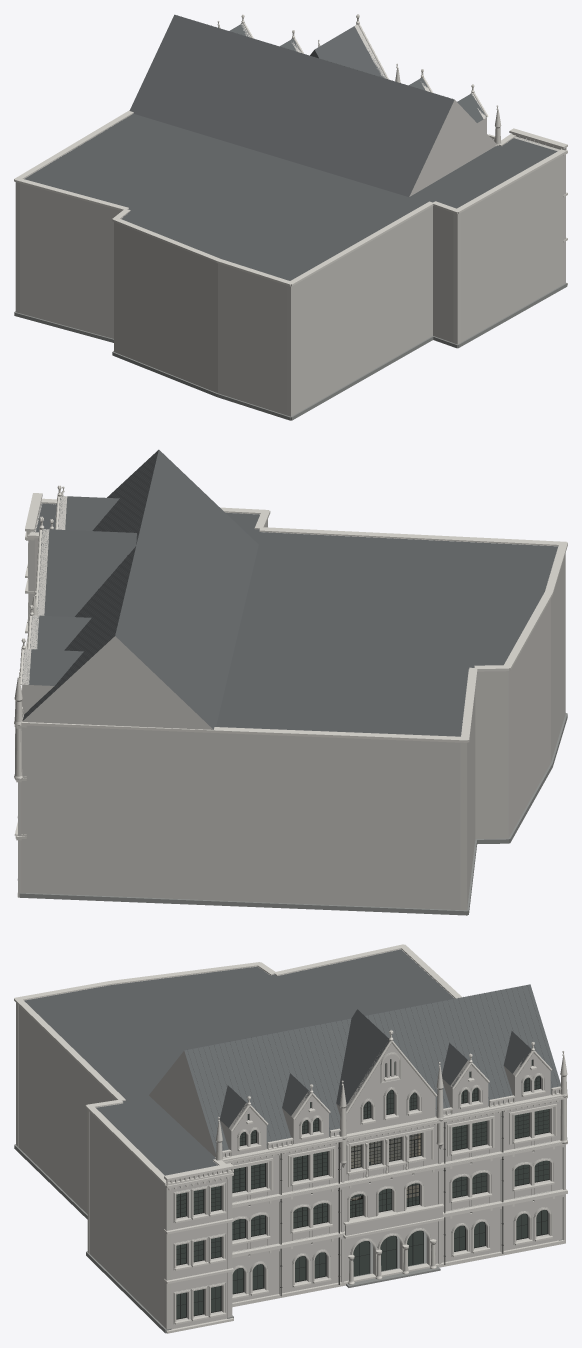
The model's file is bund06.glb.
3 renders of one model, top to bottom at view 1: azimuth 30°, elevation 25°; view 2: azimuth 150°, elevation 25°; view 3: azimuth 270°, elevation 25°, orthographic. The views are drawn at different scales.
Bounding box in the file's own units: 48.15 × 23.18 × 46.97.
Materials: 10 (1 with a texture image).
